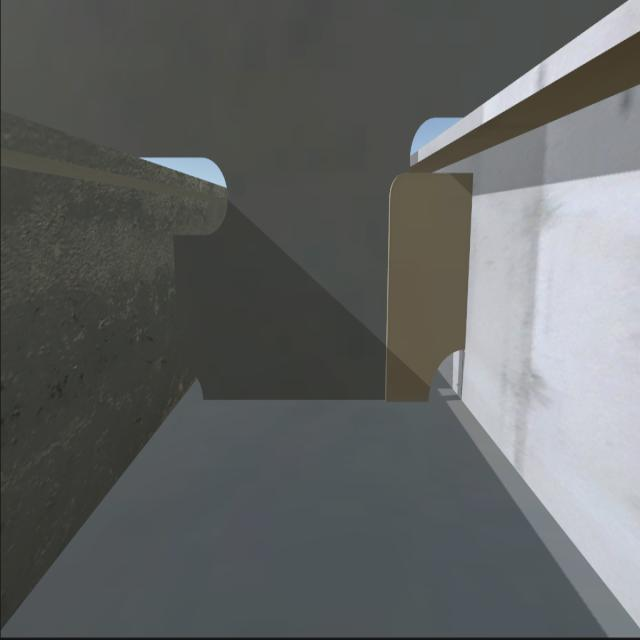fillet_hole: (426, 347, 470, 400), (179, 372, 204, 401)
fillet_yong_jeop_jang: (210, 395, 437, 403)
longi_yong_jeop_jang: (465, 179, 471, 349), (176, 243, 183, 368)
plate_CP05: (386, 174, 466, 390)
